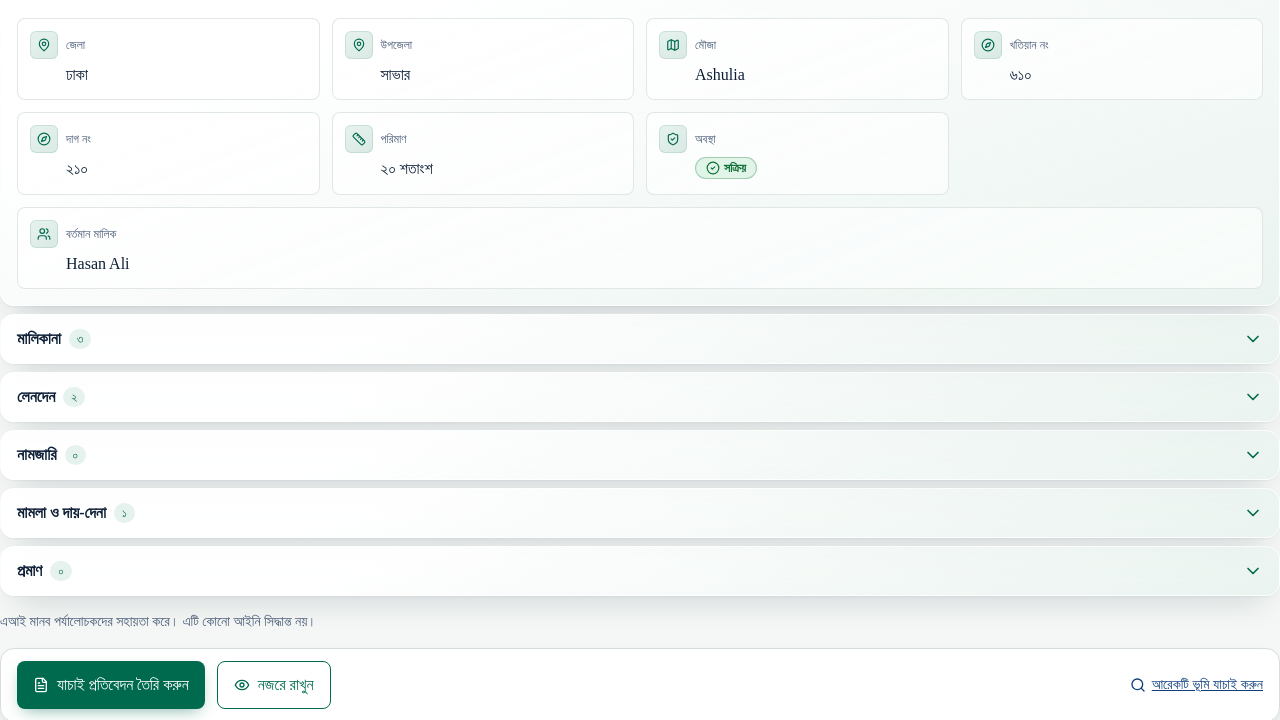
Test: ResultView › renders in Bangla with translated labels and keeps document values exact
(page scrolled)
Expected: the text "এআই মানব পর্যালোচকদের সহায়তা করে। এটি কোনো আইনি সিদ্ধান্ত নয়।" is shown, [0,614,317,629]
Click the heading with test id "section-toggle" at (36, 396), box [17,387,1263,407]
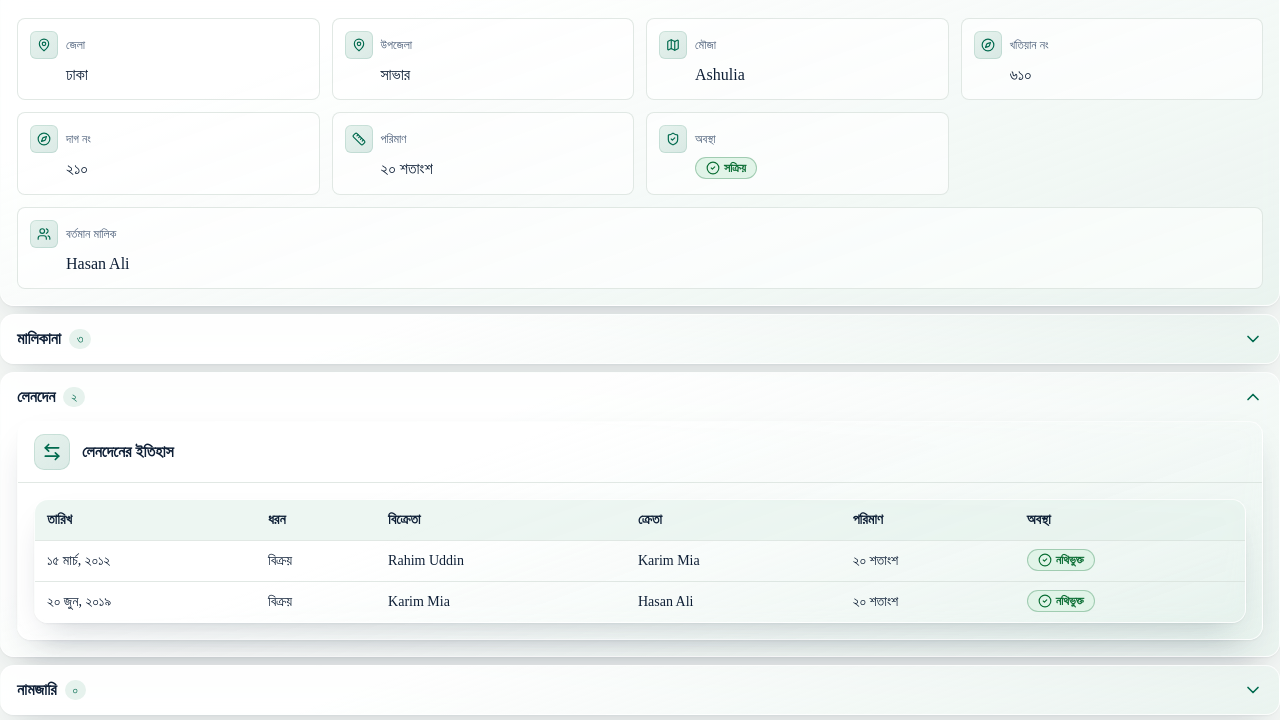
Result: the table is shown at [35,500,1245,622]
Result: the text "Rahim Uddin" is shown at [376,540,626,581]
